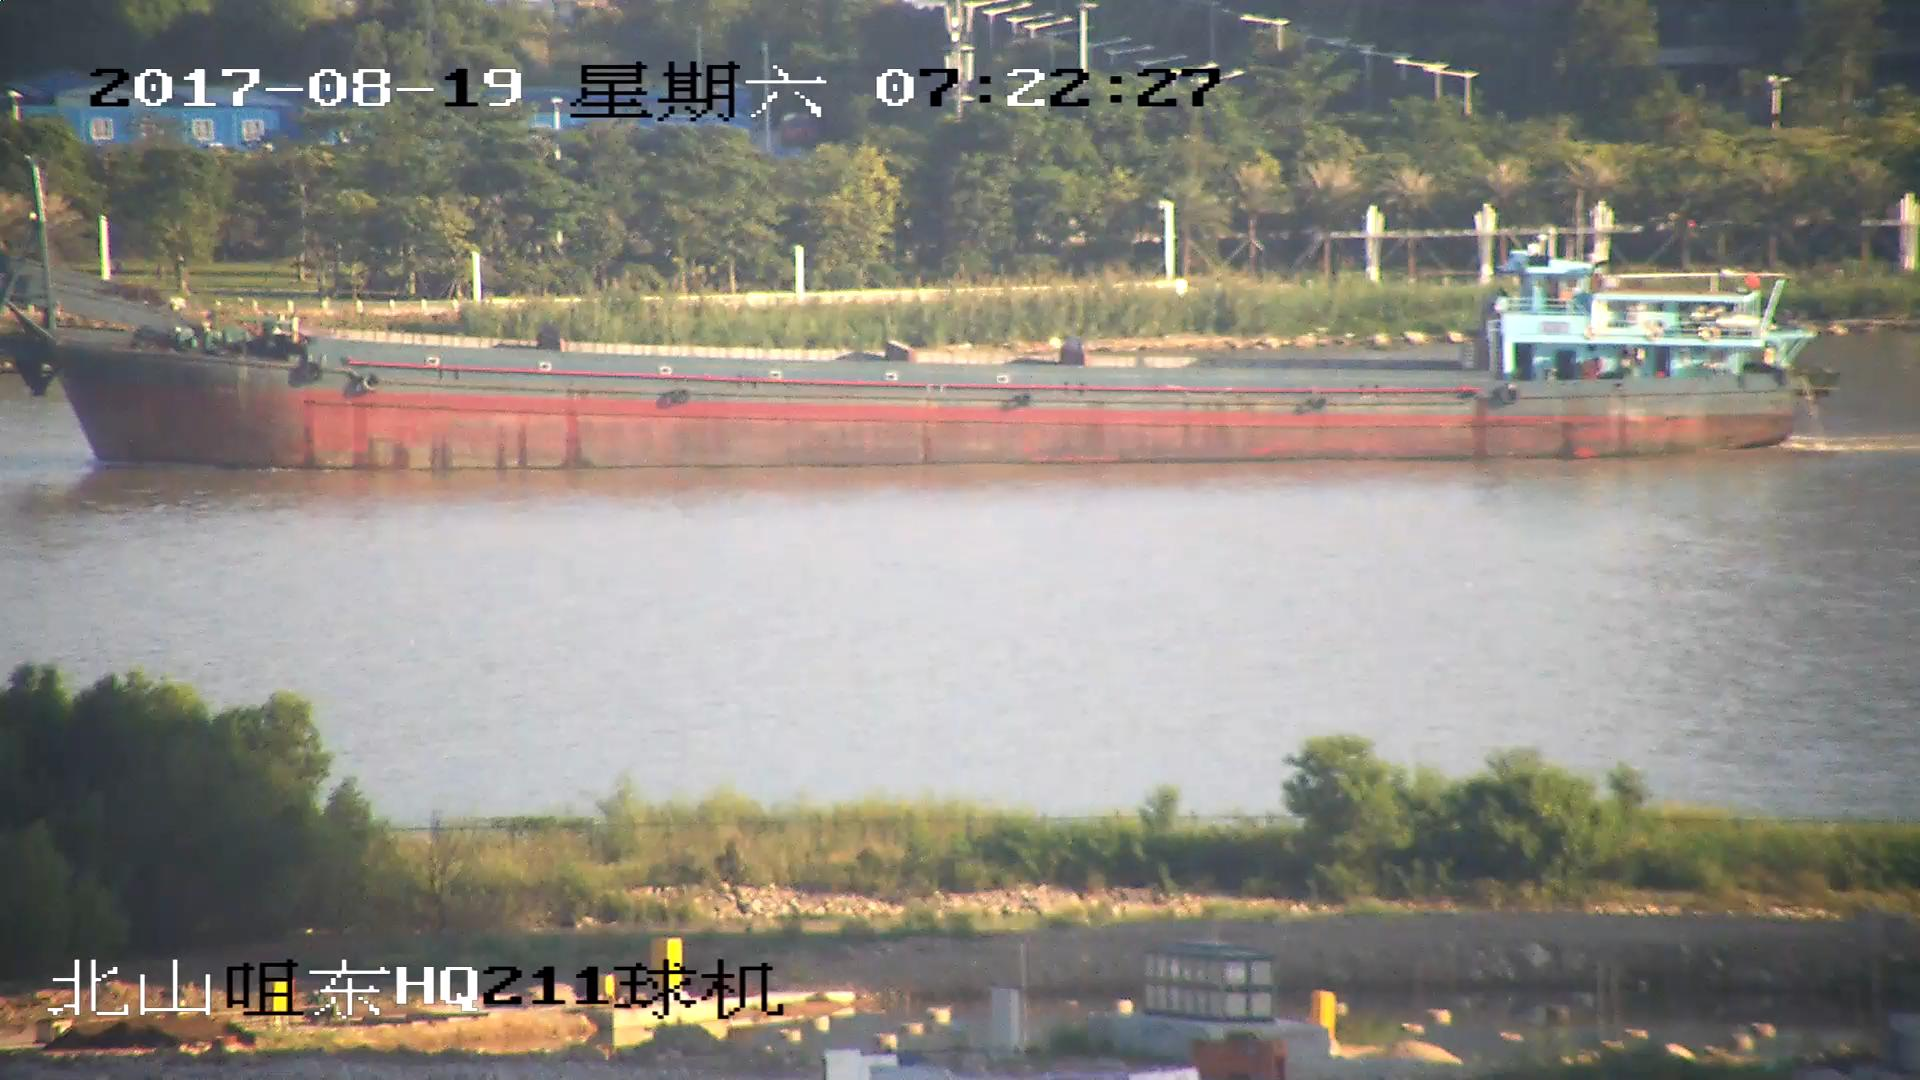bulk cargo carrier: (1, 168, 1839, 471)
